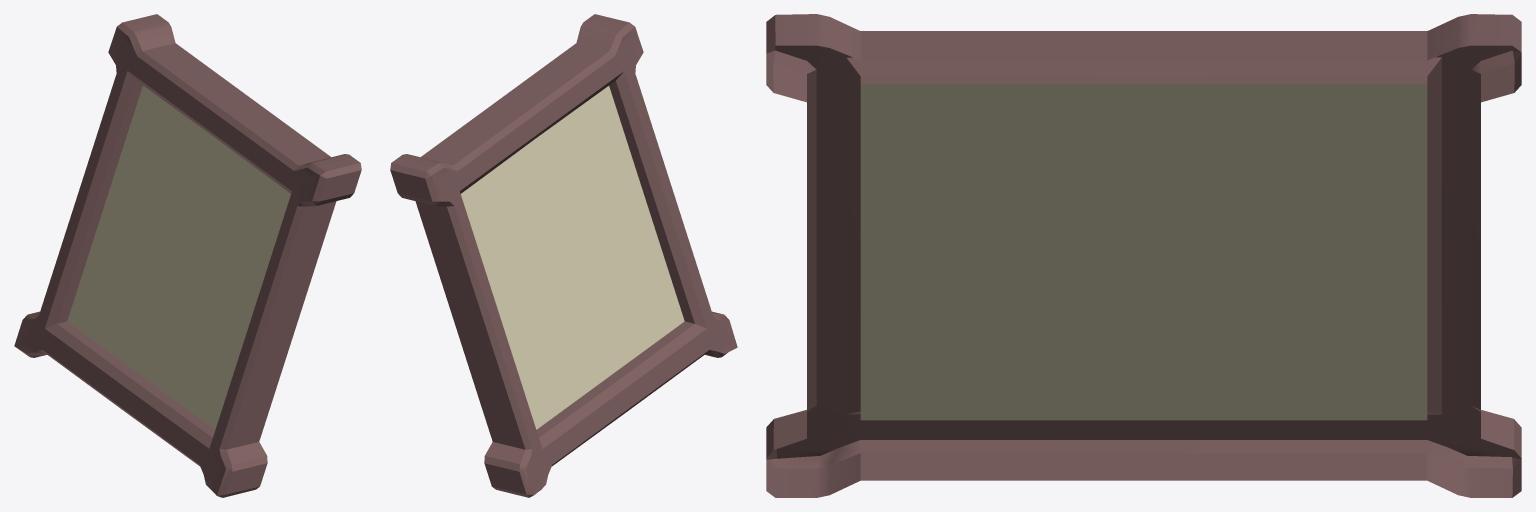
The model's file is SM_Painting02_003.fbx.
3 renders of one model, left to right at view 1: azimuth 30°, elevation 25°; view 2: azimuth 150°, elevation 25°; view 3: azimuth 270°, elevation 25°, orthographic. The views are drawn at different scales.
Visible parts, largest first — view 1: Painting2; view 2: Painting2; view 3: Painting2.
Boxes of the visible parts, x1,y1,x2,y2 form: Painting2: [14, 14, 361, 497]; Painting2: [390, 14, 737, 497]; Painting2: [766, 14, 1521, 497].
Bounding box in the file's own units: 18.13 × 36.38 × 45.71.
